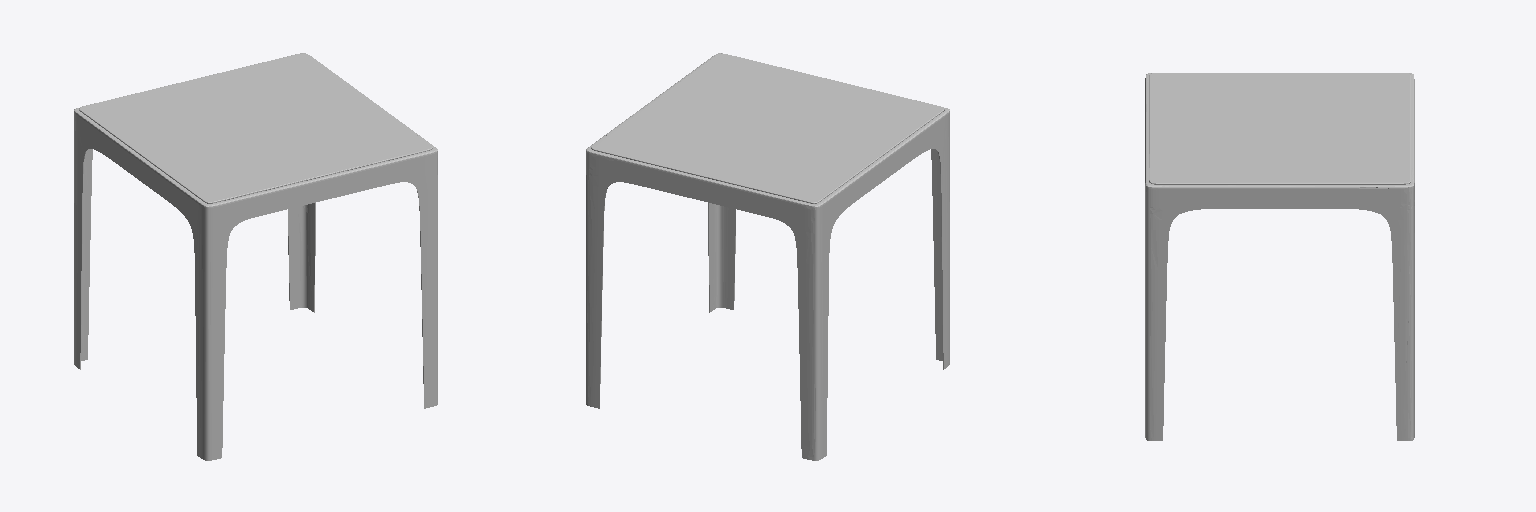
Rendered from 5_d7817105-3471-4fb8-be9c-22077d239cbe.obj.
The picture shows the model from 3 angles: view 1: azimuth 30°, elevation 25°; view 2: azimuth 150°, elevation 25°; view 3: azimuth 270°, elevation 25°; orthographic projection.
Bounding box in the file's own units: 0.7748 × 0.8094 × 0.7708.